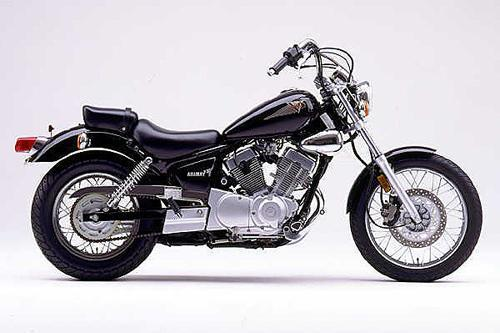motorcycle: (3, 43, 487, 290)
